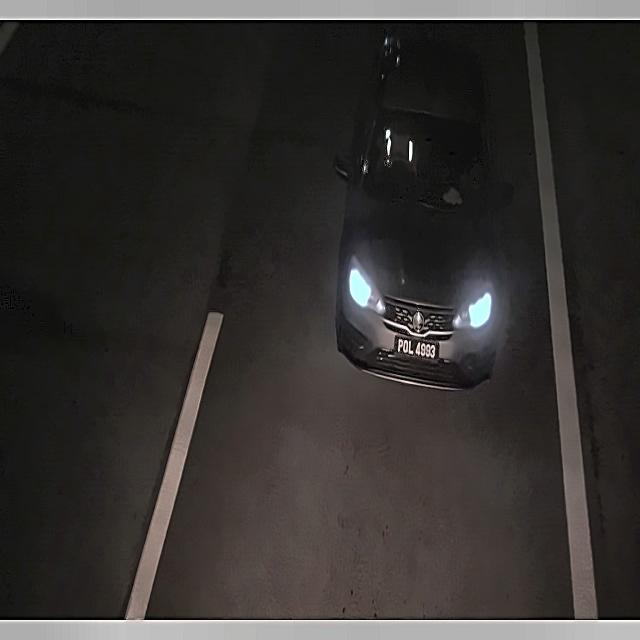car: (391, 332, 445, 368)
